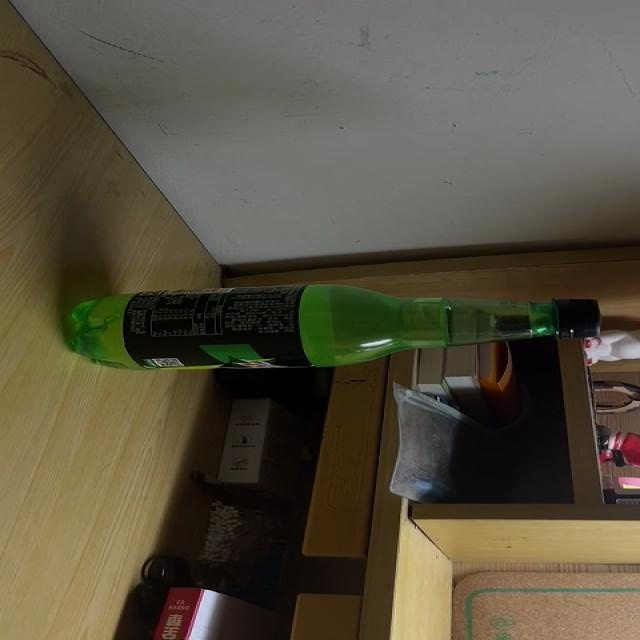Mountain-Dew: (68, 284, 604, 372)
